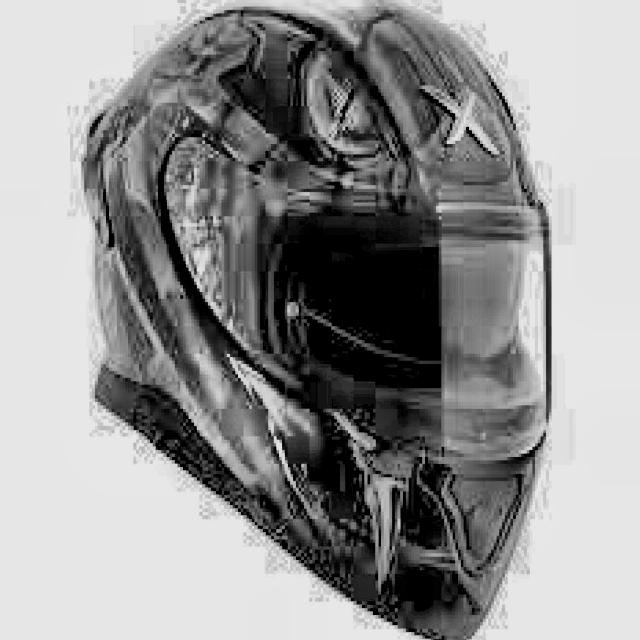Helmet: (76, 0, 558, 640)
